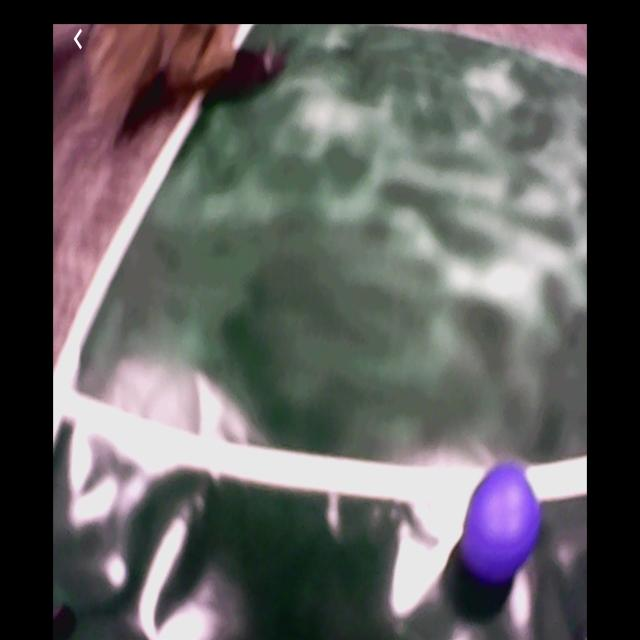ball: (459, 464, 537, 578)
